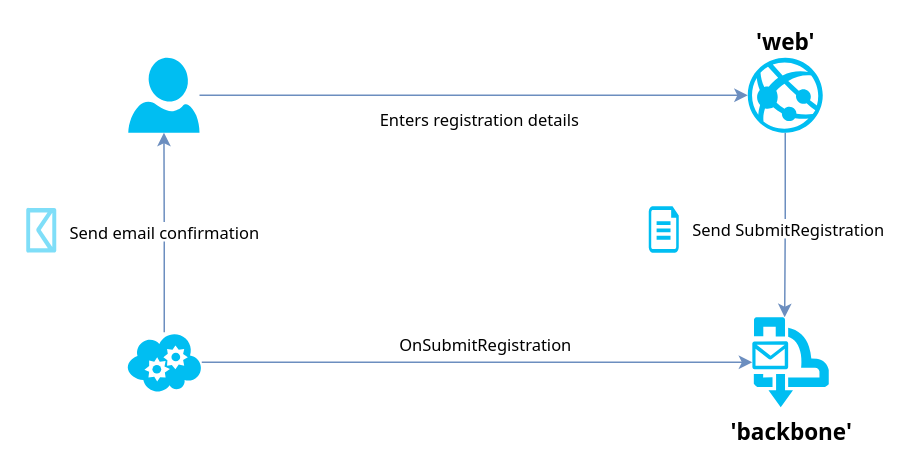
Image size: 911x470. Some labels were removed from this diagram. Here are the shapes that lost their labels. From the top down, the box of each, then its label:
(128, 57, 199, 132): Customer
(126, 332, 201, 392): 'notifications'
